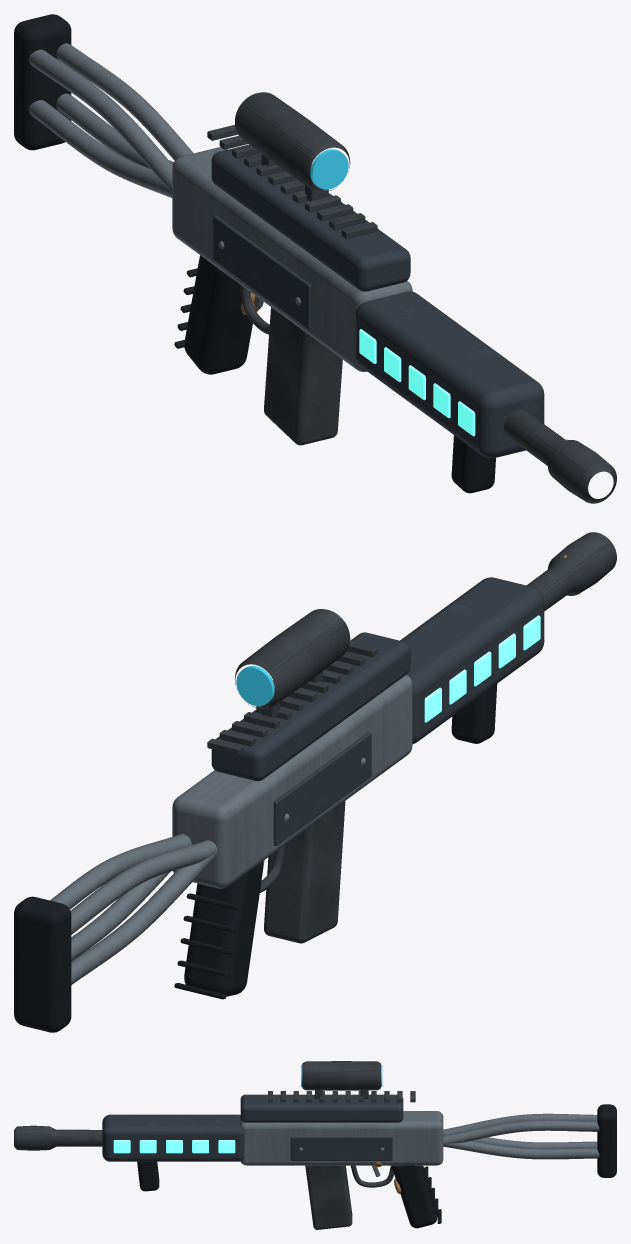
File: pulse-rifle.glb
The picture shows the model from 3 angles, top to bottom: view 1: azimuth 30°, elevation 25°; view 2: azimuth 150°, elevation 25°; view 3: azimuth 270°, elevation 25°; orthographic projection. The views are drawn at different scales.
Parts seen in each view (by area): view 1: ceramic / ceramic composite panel, alloy / machined anodized alloy, darksteel / oil-blackened fittings, polymer / stippled polymer, energy / emissive field channel, crystal / faceted crystal; view 2: alloy / machined anodized alloy, ceramic / ceramic composite panel, darksteel / oil-blackened fittings, polymer / stippled polymer, energy / emissive field channel, crystal / faceted crystal; view 3: ceramic / ceramic composite panel, alloy / machined anodized alloy, darksteel / oil-blackened fittings, polymer / stippled polymer, energy / emissive field channel.
Boxes of the visible parts, bbox=[...] form: ceramic / ceramic composite panel: bbox=[211, 144, 544, 458]; alloy / machined anodized alloy: bbox=[28, 43, 412, 371]; darksteel / oil-blackened fittings: bbox=[207, 92, 616, 503]; polymer / stippled polymer: bbox=[14, 14, 495, 493]; energy / emissive field channel: bbox=[359, 329, 475, 436]; crystal / faceted crystal: bbox=[310, 149, 348, 189]; alloy / machined anodized alloy: bbox=[50, 674, 412, 984]; ceramic / ceramic composite panel: bbox=[211, 577, 544, 845]; darksteel / oil-blackened fittings: bbox=[207, 532, 616, 943]; polymer / stippled polymer: bbox=[14, 684, 497, 1032]; energy / emissive field channel: bbox=[424, 615, 540, 722]; crystal / faceted crystal: bbox=[236, 666, 274, 706]; ceramic / ceramic composite panel: bbox=[102, 1094, 403, 1161]; alloy / machined anodized alloy: bbox=[240, 1111, 599, 1176]; darksteel / oil-blackened fittings: bbox=[14, 1061, 415, 1229]; polymer / stippled polymer: bbox=[137, 1104, 616, 1228]; energy / emissive field channel: bbox=[113, 1140, 235, 1153].
Bounding box in the file's own units: 0.0643 × 0.2751 × 0.9208.
7 materials, 4 textured.
